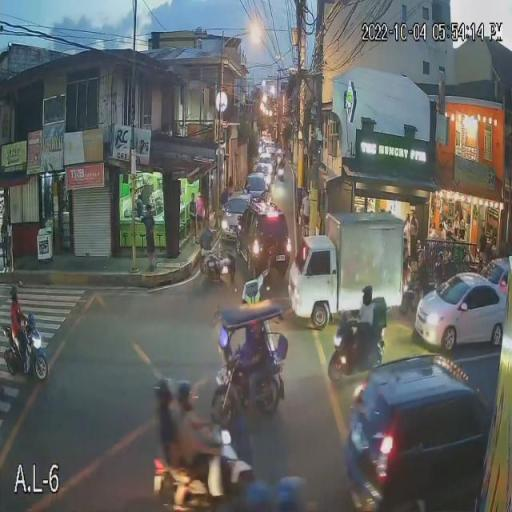helmet: (158, 379, 176, 405), (176, 382, 195, 399), (361, 286, 375, 305), (9, 289, 22, 306)
motorcycle: (153, 425, 258, 512), (326, 314, 388, 383), (0, 311, 50, 381), (198, 254, 220, 286)
rider: (176, 382, 225, 507), (352, 285, 386, 367), (156, 379, 182, 479), (9, 289, 34, 359), (196, 230, 214, 270)
